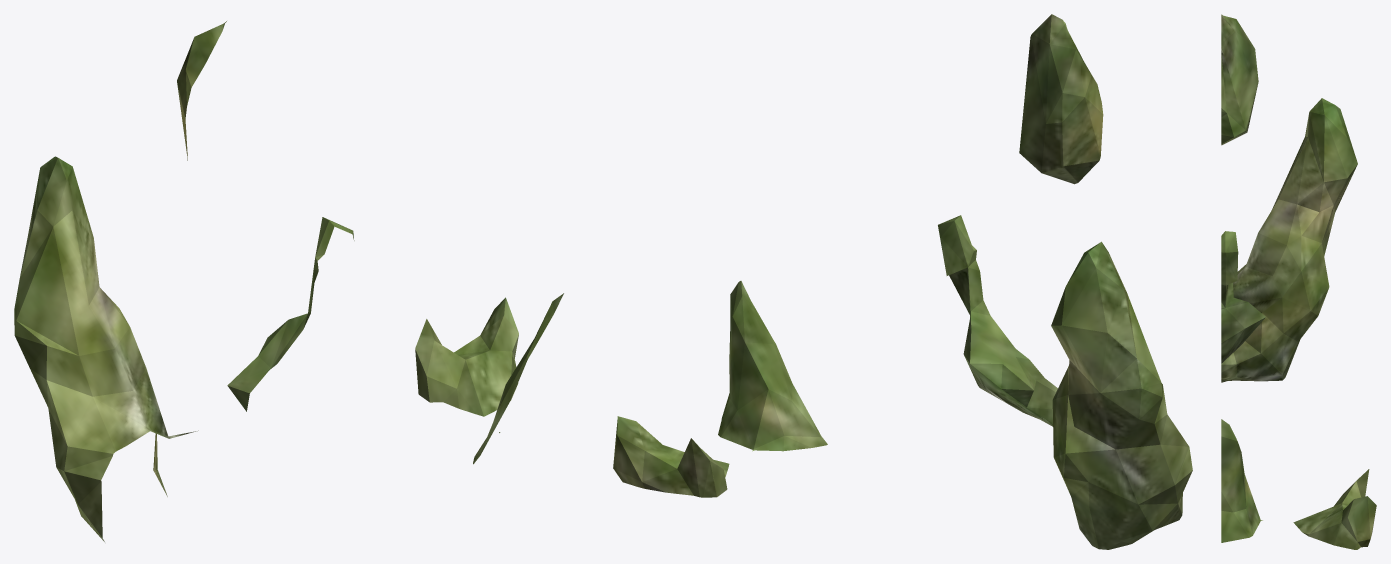
3 renders of one model, left to right at view 1: azimuth 30°, elevation 25°; view 2: azimuth 150°, elevation 25°; view 3: azimuth 270°, elevation 25°, orthographic. The views are drawn at different scales.
Size of the model in its own units: 1.97 by 1.79 by 0.6371.
Materials: 1 (1 with a texture image).
